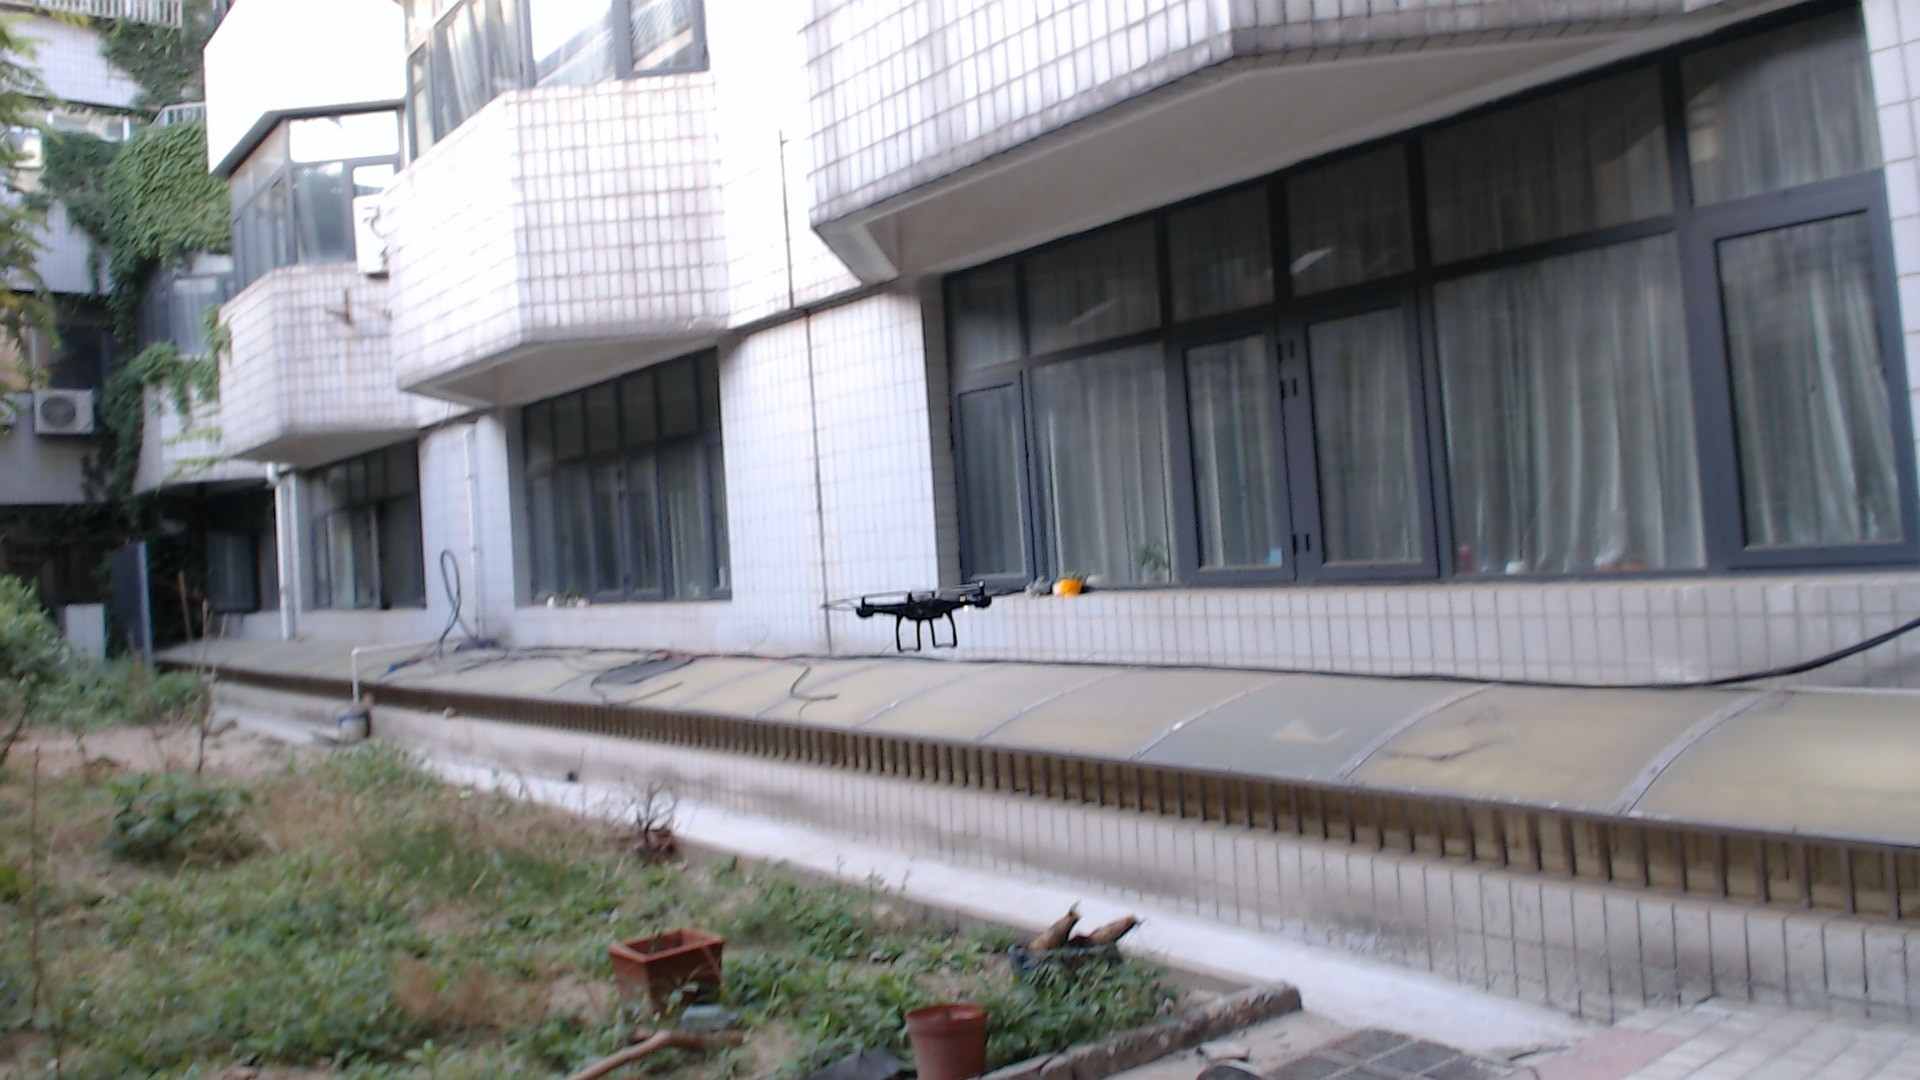drone: (800, 553, 1048, 671)
